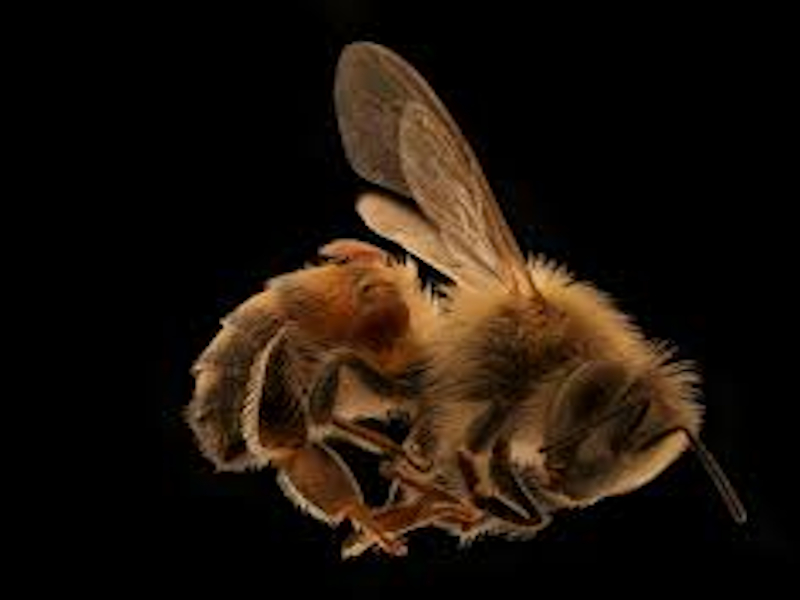abeja: (121, 15, 751, 562)
